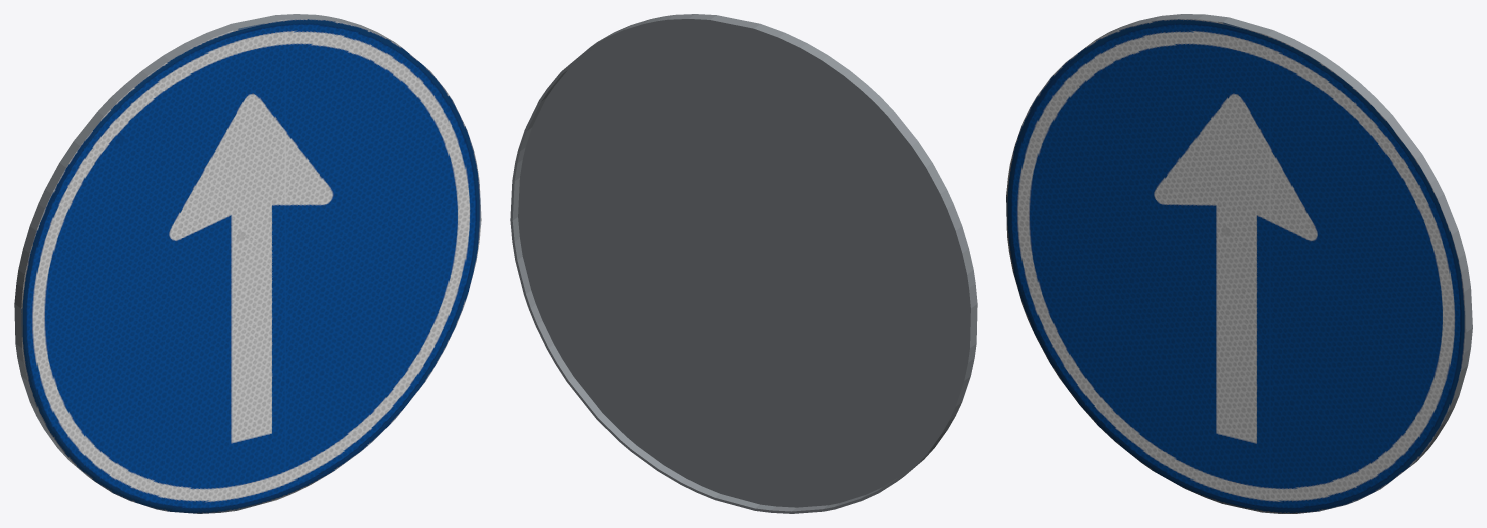
3 renders of one model, left to right at view 1: azimuth 30°, elevation 25°; view 2: azimuth 150°, elevation 25°; view 3: azimuth 330°, elevation 25°, orthographic.
Visible parts, largest first — view 1: cat_a33026500011265f; view 2: cat_a33026500011265f; view 3: cat_a33026500011265f.
Part boxes in pixels (x1,y1,x2,y2): cat_a33026500011265f: (14,14,481,513); cat_a33026500011265f: (510,14,977,513); cat_a33026500011265f: (1006,14,1472,513).
Size of the model in its own units: 0.6 by 0.015 by 0.6.
2 materials, 1 textured.
